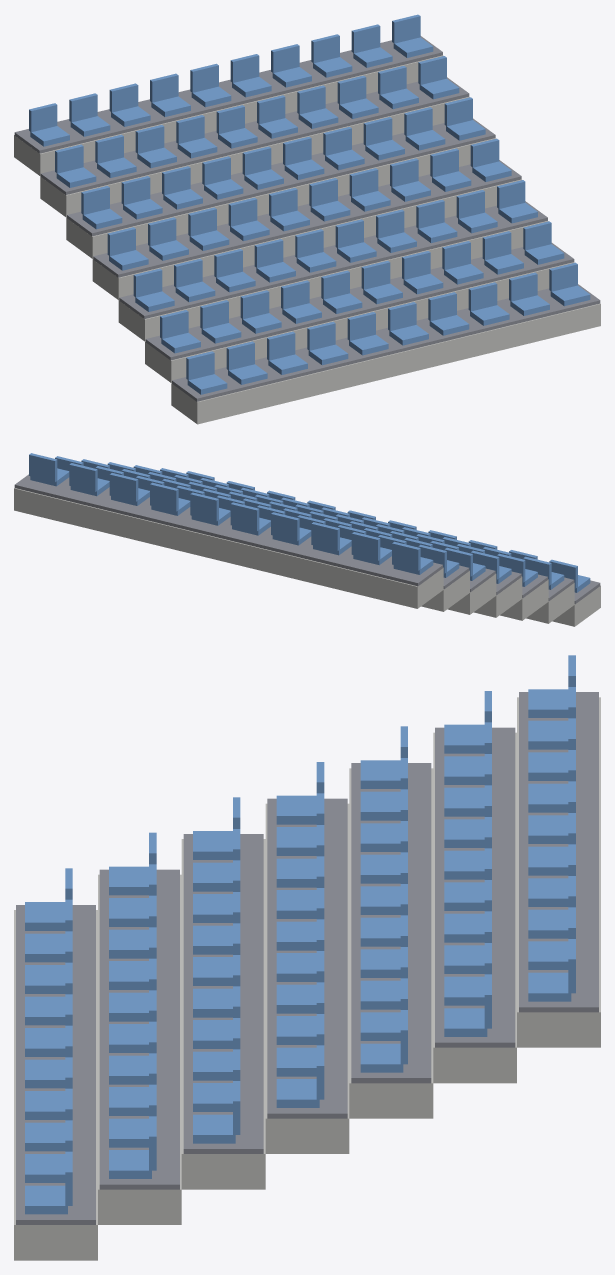
File: arena_stand.glb
3 renders of one model, top to bottom at view 1: azimuth 30°, elevation 25°; view 2: azimuth 150°, elevation 25°; view 3: azimuth 270°, elevation 25°, orthographic. The views are drawn at different scales.
Visible parts, largest first — view 1: arena-stand-block; view 2: arena-stand-block; view 3: arena-stand-block.
Boxes of the visible parts, left/top/right/bottom form: arena-stand-block: left=14, top=14, right=600, bottom=424; arena-stand-block: left=14, top=453, right=600, bottom=626; arena-stand-block: left=14, top=655, right=600, bottom=1260.
Bounding box in the file's own units: 8 × 3.5 × 6.3.
